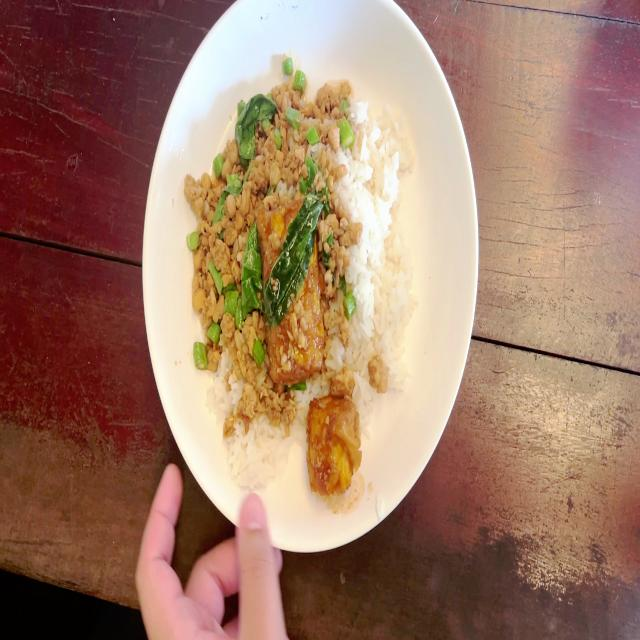fried_tofo: (262, 200, 319, 374), (306, 399, 358, 486)
minced_pork: (186, 92, 258, 430), (256, 55, 352, 191), (315, 183, 356, 334), (259, 384, 297, 434), (371, 359, 388, 392), (334, 371, 355, 394)
rice: (352, 87, 411, 354), (226, 428, 294, 489)
stir_fried_basil: (184, 56, 412, 511)
